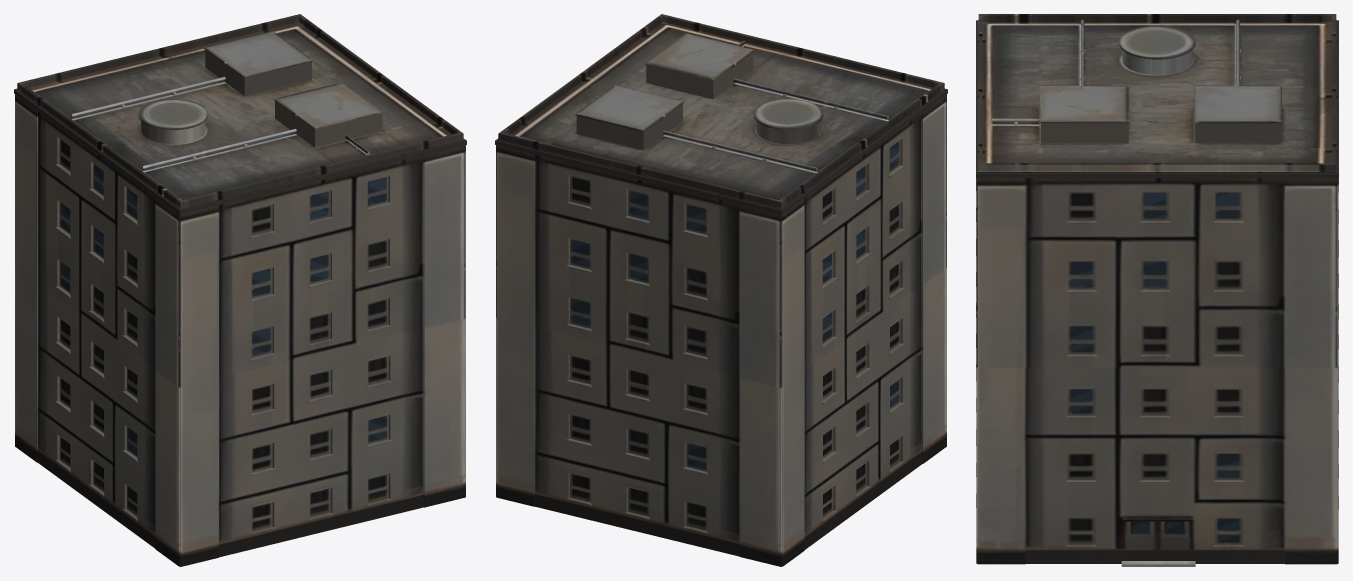
File: city6storya_cad.glb
3 views of the same model, side by side, from view 1: azimuth 30°, elevation 25°; view 2: azimuth 150°, elevation 25°; view 3: azimuth 270°, elevation 25° (orthographic). The views are drawn at different scales.
Parts seen in each view (by area): view 1: CityBlock8Story_A01; view 2: CityBlock8Story_A01; view 3: CityBlock8Story_A01.
Boxes of the visible parts, <box> form: CityBlock8Story_A01: <box>14,14,466,566</box>; CityBlock8Story_A01: <box>495,14,947,566</box>; CityBlock8Story_A01: <box>976,14,1338,566</box>.
Size of the model in its own units: 18.24 by 22.51 by 17.92.
1 material, 1 textured.
